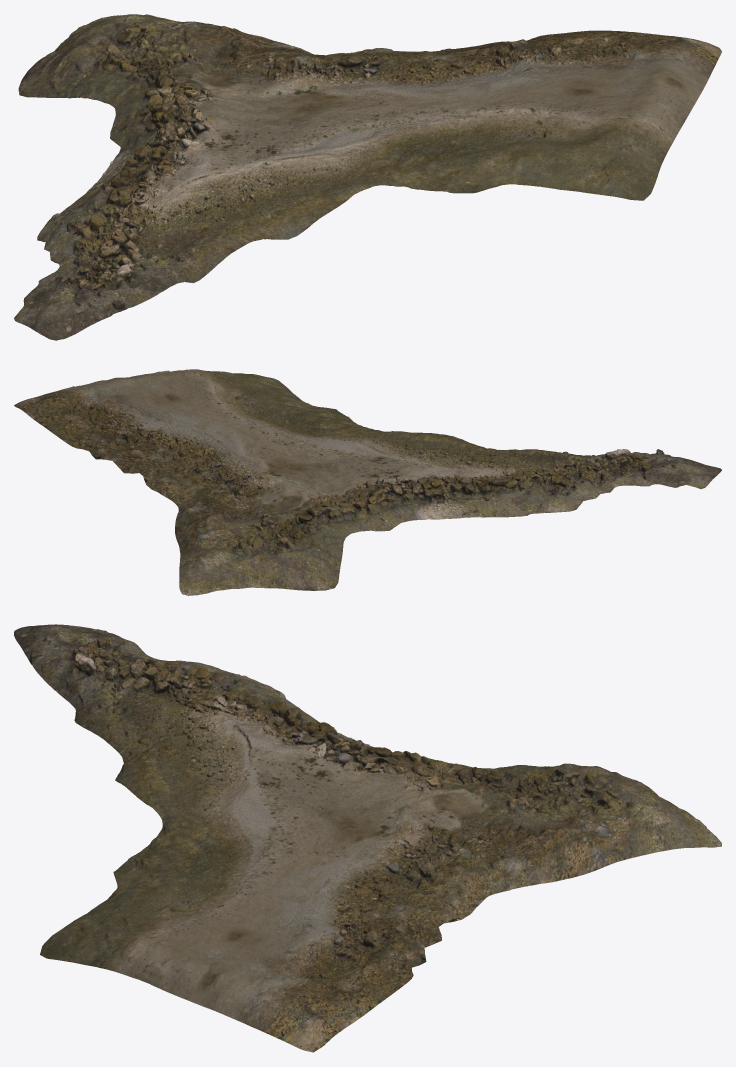
Rendered from coast_rocks_01.gltf.
The picture shows the model from 3 angles, top to bottom: view 1: azimuth 30°, elevation 25°; view 2: azimuth 150°, elevation 25°; view 3: azimuth 270°, elevation 25°; orthographic projection. The views are drawn at different scales.
Parts seen in each view (by area): view 1: coast_rocks_01; view 2: coast_rocks_01; view 3: coast_rocks_01.
Part boxes in pixels (x1,y1,x2,y2): coast_rocks_01: (14, 14, 721, 340); coast_rocks_01: (14, 369, 721, 595); coast_rocks_01: (14, 624, 721, 1052).
Bounding box in the file's own units: 59.51 × 3.29 × 42.52.
Materials: 1 (1 with a texture image).
